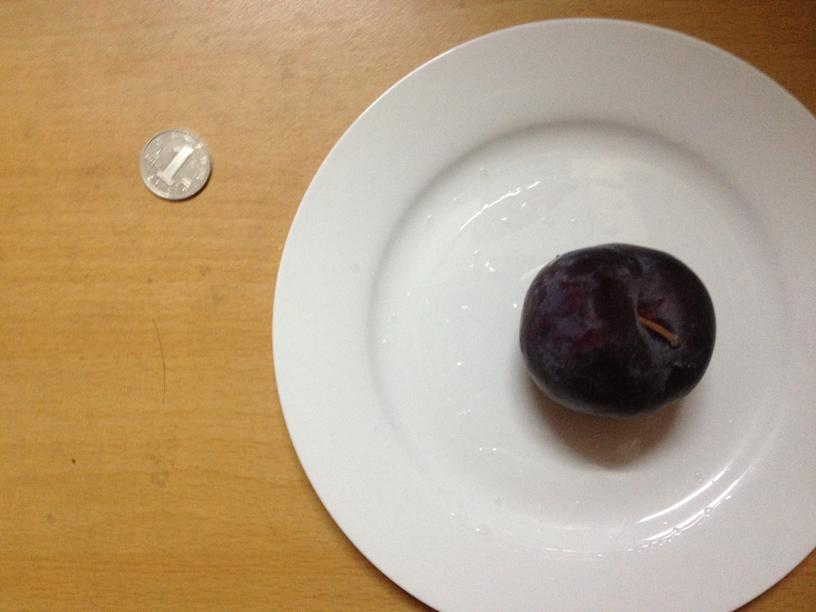coin: (137, 131, 213, 200)
plum: (523, 243, 715, 414)
